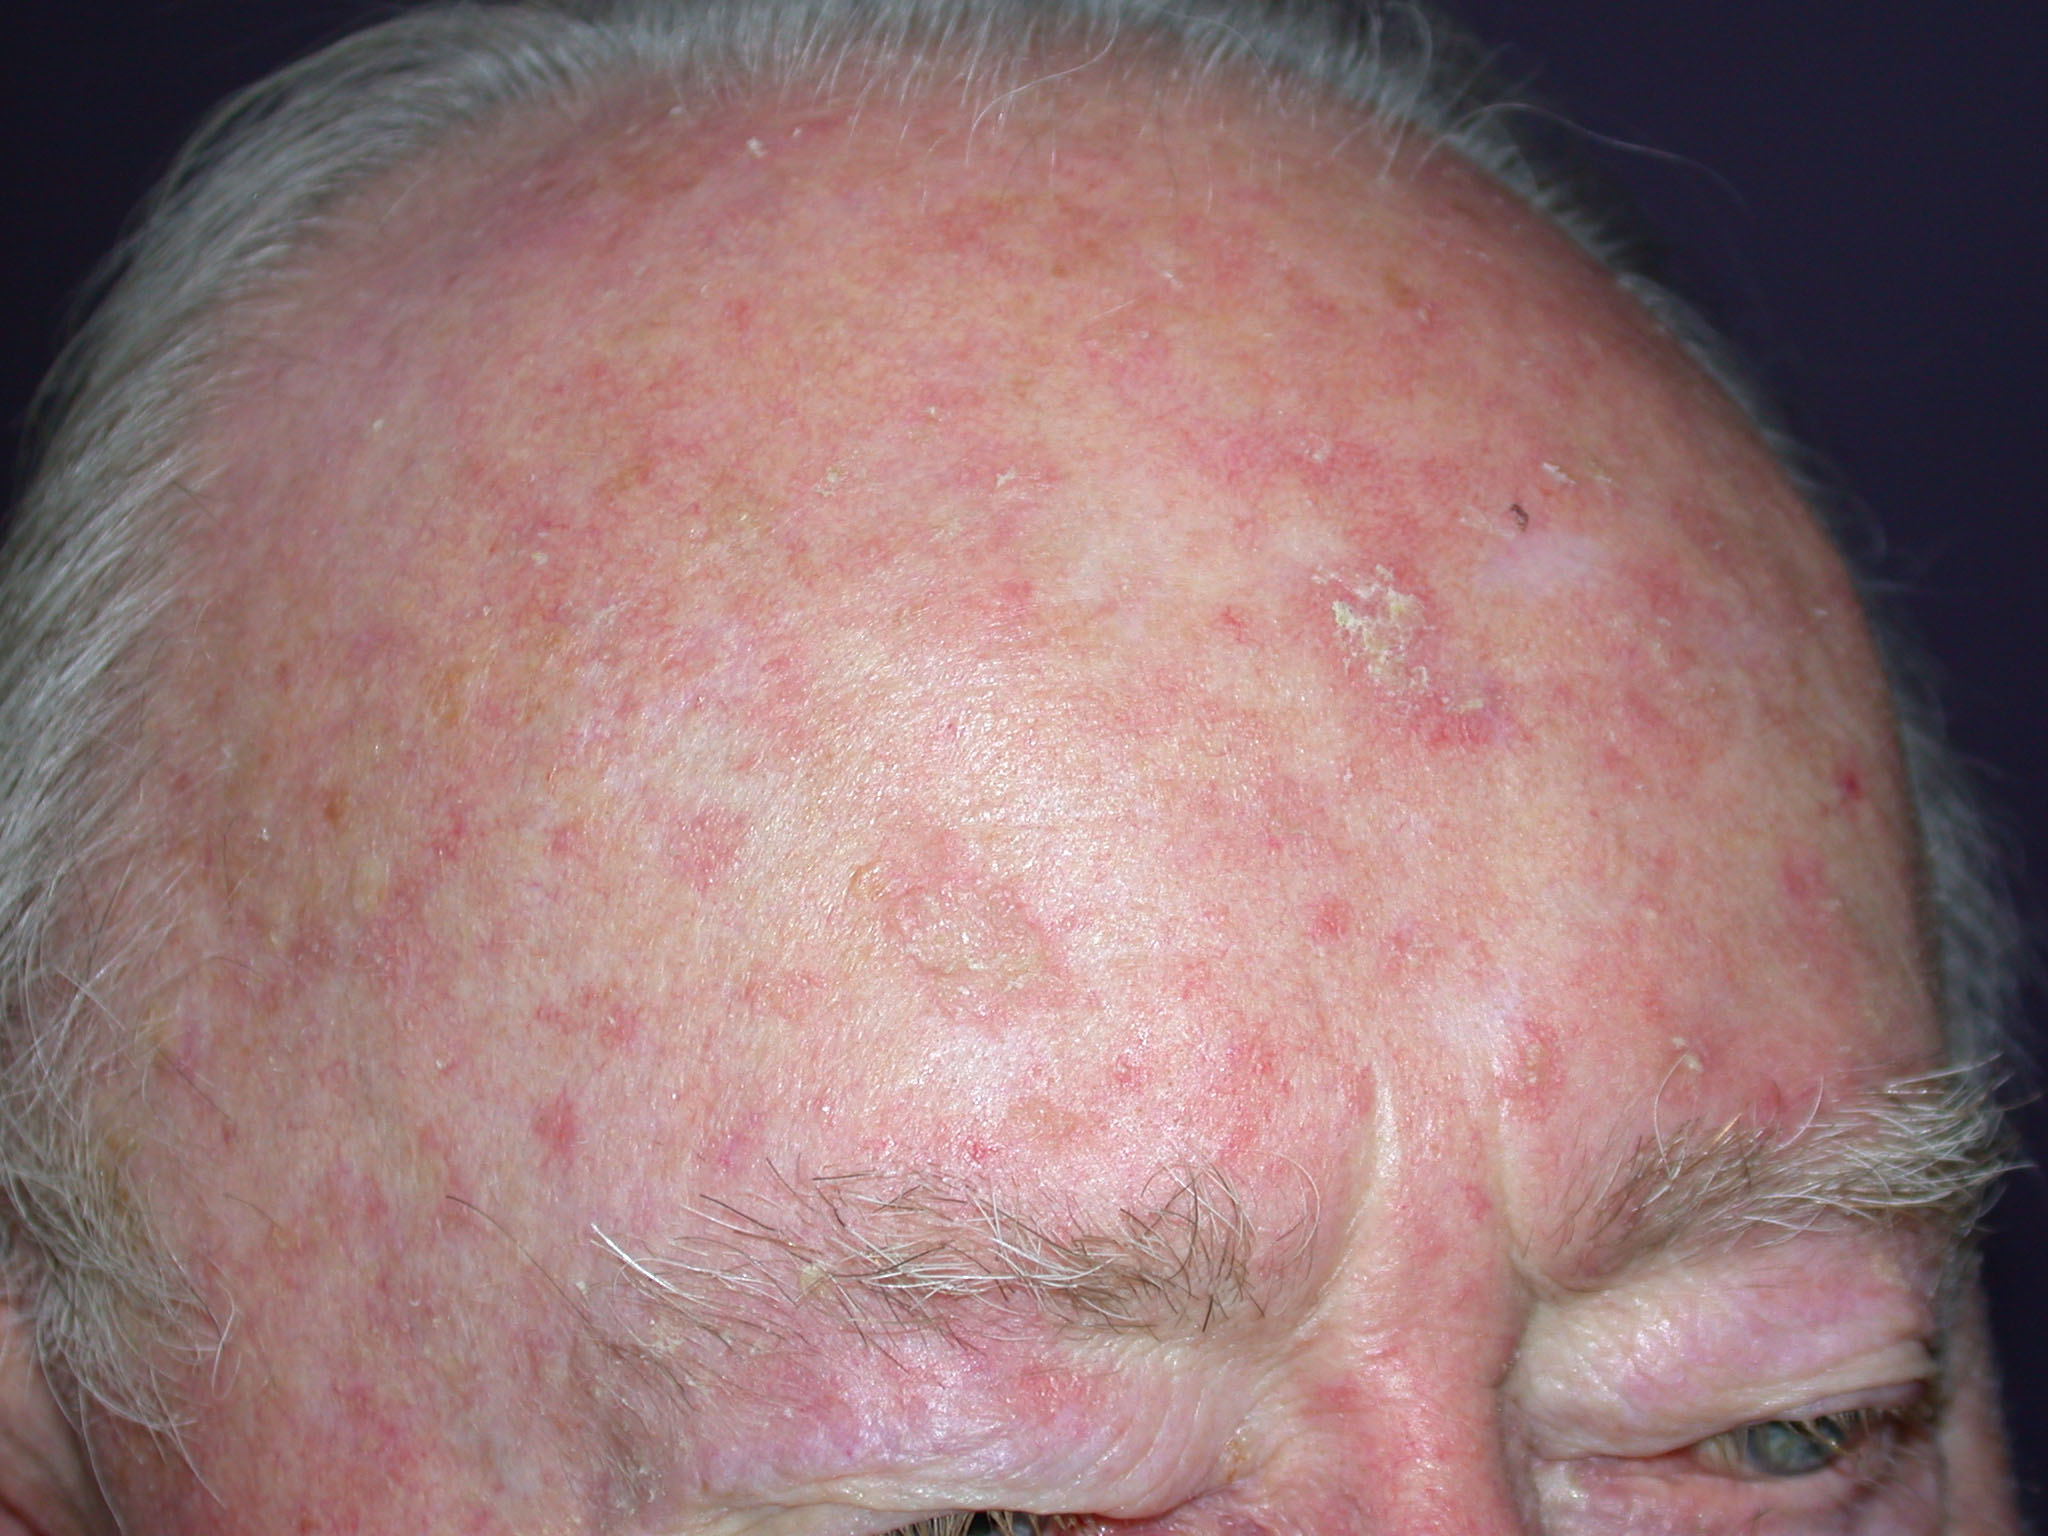Actinic Keratosis: (425, 228, 1899, 1088)
